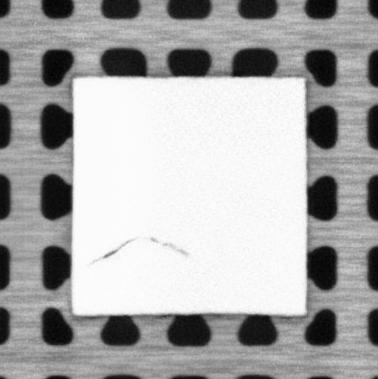DIE_INK: (88, 237, 137, 266), (149, 236, 188, 256)
